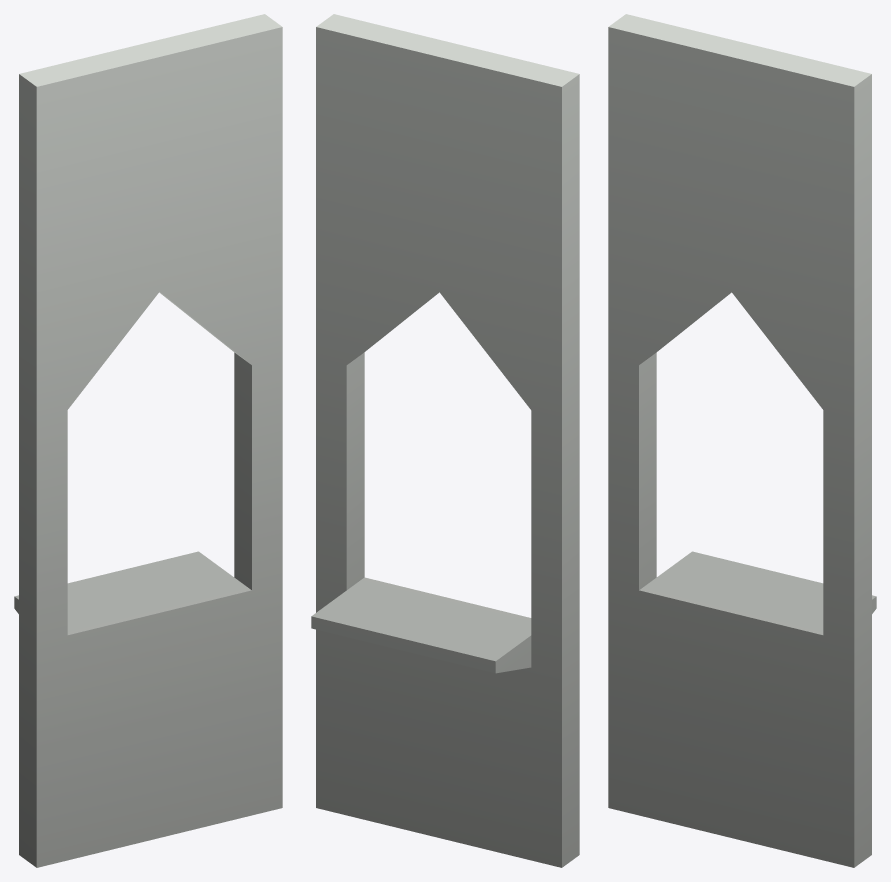
File: Window_Triangular_1x3.fbx
3 renders of one model, left to right at view 1: azimuth 30°, elevation 25°; view 2: azimuth 150°, elevation 25°; view 3: azimuth 330°, elevation 25°, orthographic.
Visible parts, largest first — view 1: Window_Triangular_1x3; view 2: Window_Triangular_1x3; view 3: Window_Triangular_1x3.
Part boxes in pixels (x1,y1,x2,y2): Window_Triangular_1x3: [14, 14, 282, 867]; Window_Triangular_1x3: [311, 14, 579, 867]; Window_Triangular_1x3: [608, 14, 876, 867].
Size of the model in its own units: 100 by 304 by 37.5.
